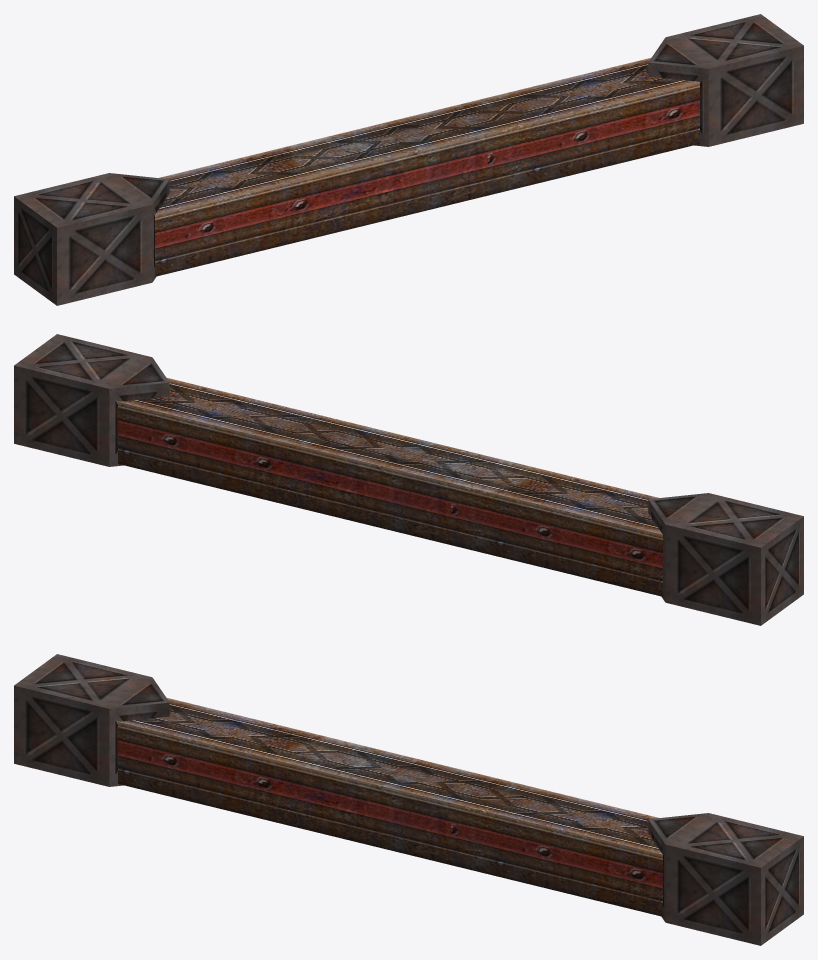
File: Stopper.gltf
3 views of the same model, one above another, from view 1: azimuth 30°, elevation 25°; view 2: azimuth 150°, elevation 25°; view 3: azimuth 330°, elevation 25° (orthographic).
Visible parts, largest first — view 1: StopperMesh; view 2: StopperMesh; view 3: StopperMesh.
Boxes of the visible parts, x1,y1,x2,y2 form: StopperMesh: [14, 14, 803, 305]; StopperMesh: [14, 334, 803, 625]; StopperMesh: [14, 654, 803, 945].
Size of the model in its own units: 5 by 0.5 by 0.5.
Materials: 2 (2 with a texture image).
